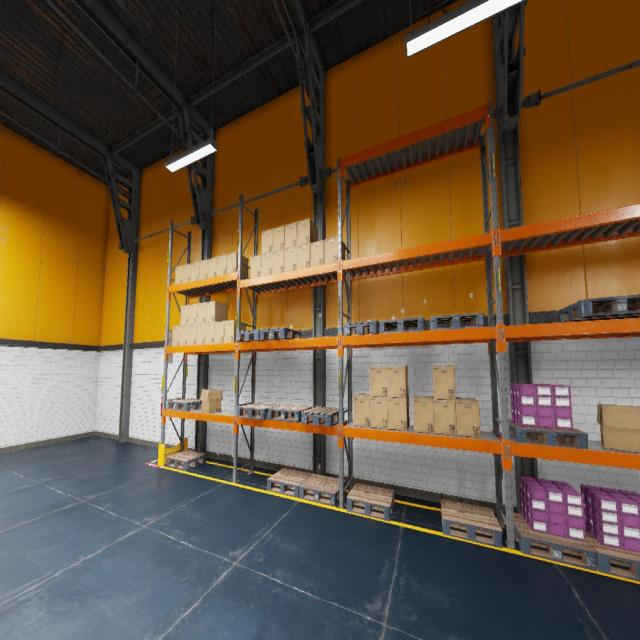box: (597, 403, 640, 452), (455, 398, 481, 437), (434, 396, 456, 436), (324, 236, 346, 271), (433, 365, 455, 399), (414, 396, 434, 433), (388, 396, 409, 431), (387, 366, 408, 398), (370, 396, 388, 429), (226, 252, 248, 278), (297, 218, 318, 245), (200, 389, 223, 413), (354, 394, 370, 427), (370, 366, 387, 397), (224, 320, 246, 343), (205, 300, 228, 322), (310, 239, 324, 266), (284, 246, 297, 272), (297, 243, 310, 269), (284, 222, 296, 248), (272, 249, 284, 274), (273, 225, 284, 251), (250, 254, 261, 278), (261, 252, 272, 275), (262, 229, 272, 254), (214, 321, 224, 343), (188, 303, 198, 325), (216, 254, 226, 276), (205, 322, 214, 344), (197, 302, 206, 324), (196, 324, 205, 344), (180, 305, 189, 325), (208, 257, 217, 277), (199, 259, 208, 279), (188, 324, 196, 345), (180, 326, 188, 346), (172, 326, 180, 346), (191, 261, 199, 281), (182, 263, 190, 283), (175, 265, 183, 284)
pallets: (513, 512, 597, 570), (440, 499, 502, 548), (585, 529, 640, 581), (509, 420, 588, 449), (559, 294, 640, 322), (346, 483, 394, 521), (300, 474, 346, 506), (267, 468, 312, 497), (429, 312, 484, 330), (301, 407, 344, 427), (166, 450, 206, 470), (379, 317, 426, 333), (268, 405, 312, 422), (237, 404, 280, 419), (344, 320, 378, 336), (260, 327, 301, 340), (167, 398, 201, 411), (236, 329, 268, 342)
